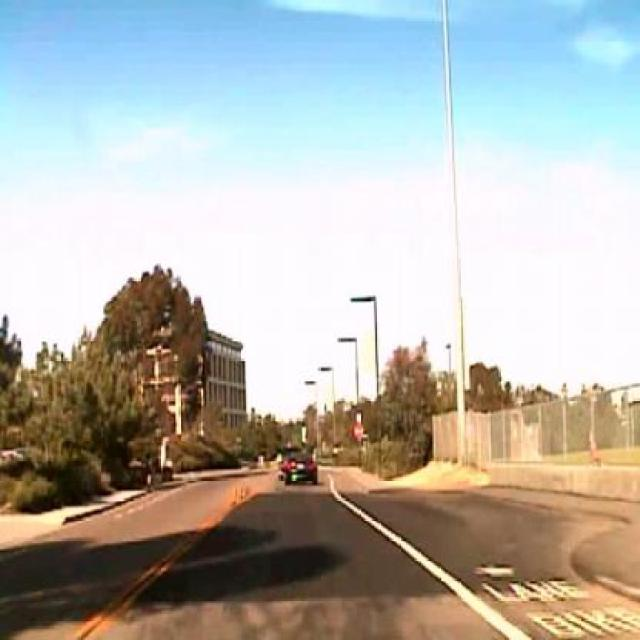stop: (354, 423, 364, 437)
